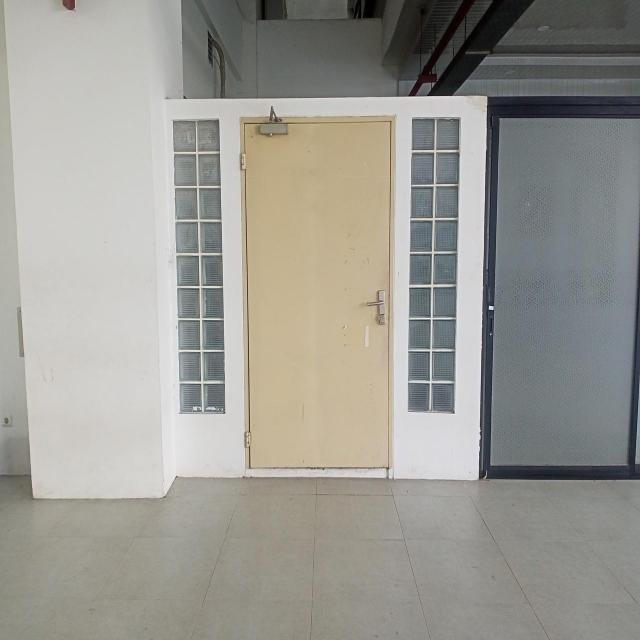door: (238, 115, 398, 472)
